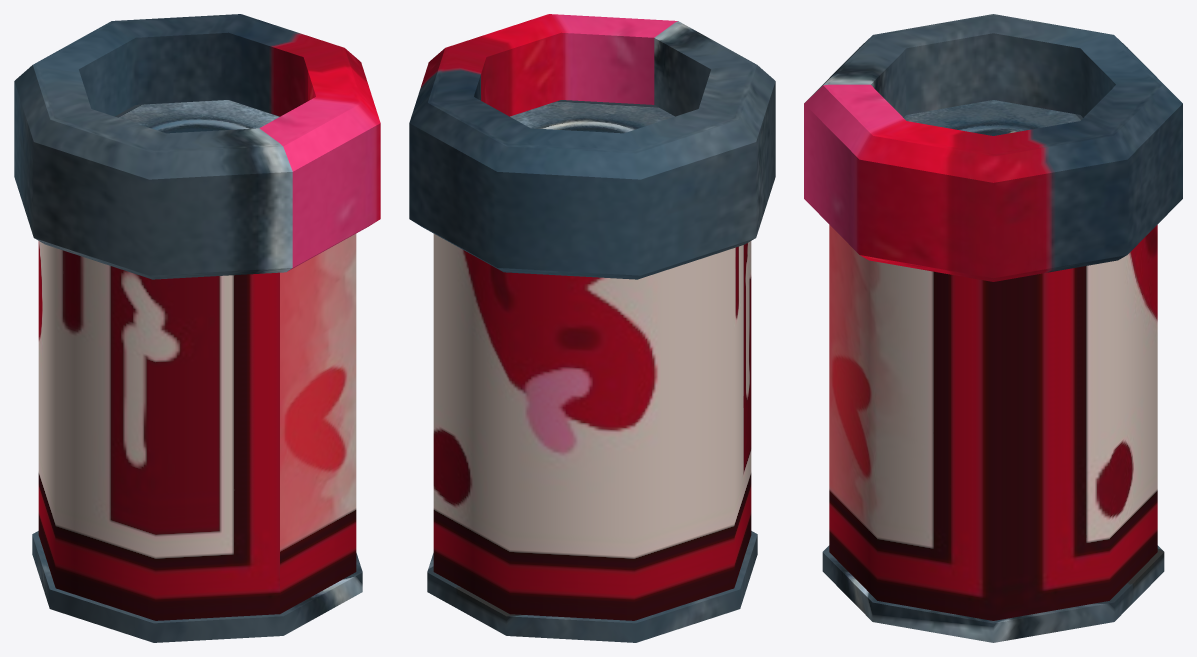
File: Lixo.fbx
The picture shows the model from 3 angles, left to right: view 1: azimuth 30°, elevation 25°; view 2: azimuth 150°, elevation 25°; view 3: azimuth 270°, elevation 25°; orthographic projection.
Visible parts, largest first — view 1: LataLixo; view 2: LataLixo; view 3: LataLixo.
Boxes of the visible parts, x1=… form: LataLixo: x1=14, y1=14, x2=380, y2=642; LataLixo: x1=409, y1=14, x2=775, y2=642; LataLixo: x1=804, y1=14, x2=1182, y2=642.
Bounding box in the file's own units: 20.79 × 29.73 × 20.97.
